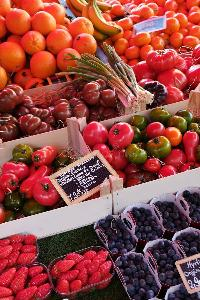orange: (0, 1, 98, 77), (108, 2, 200, 62)
strawberry: (1, 210, 113, 300)
tomato: (1, 76, 123, 148), (86, 121, 200, 190), (0, 132, 98, 212), (126, 47, 200, 113)
